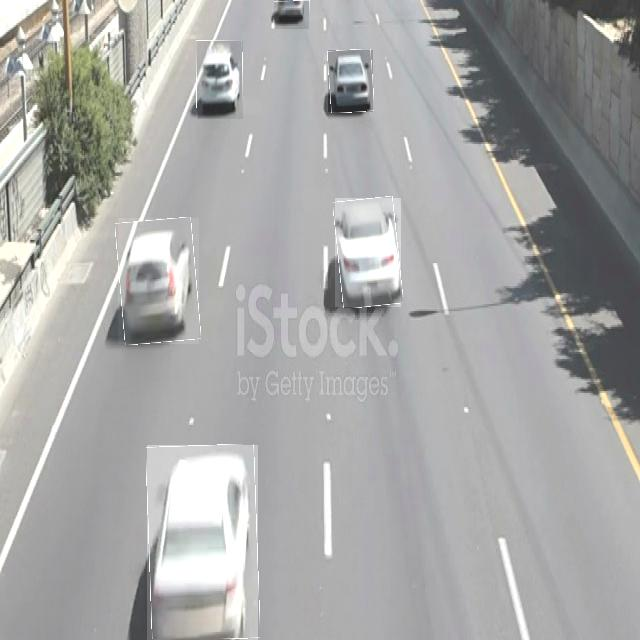Car: (147, 445, 258, 640), (118, 218, 199, 344), (335, 198, 401, 307), (197, 40, 243, 119), (328, 50, 373, 112), (274, 0, 309, 29)
